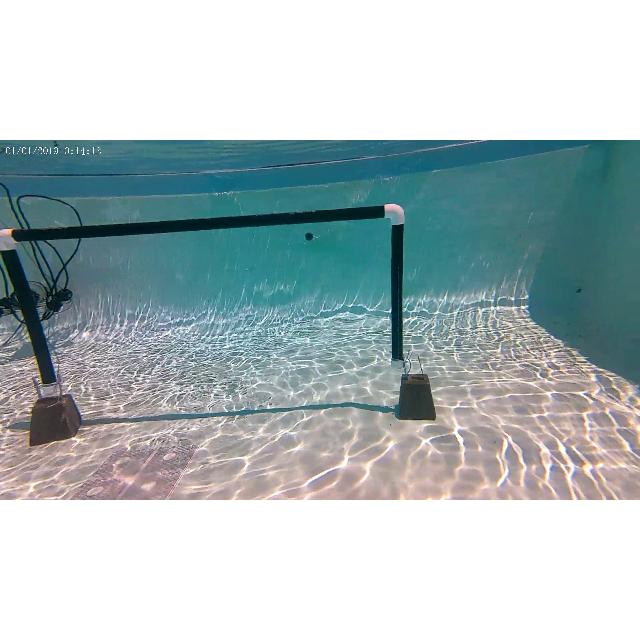prequal gate: (2, 203, 406, 395)
prequal gate leg l: (0, 228, 84, 446)
prequal gate leg r: (384, 200, 434, 416)
